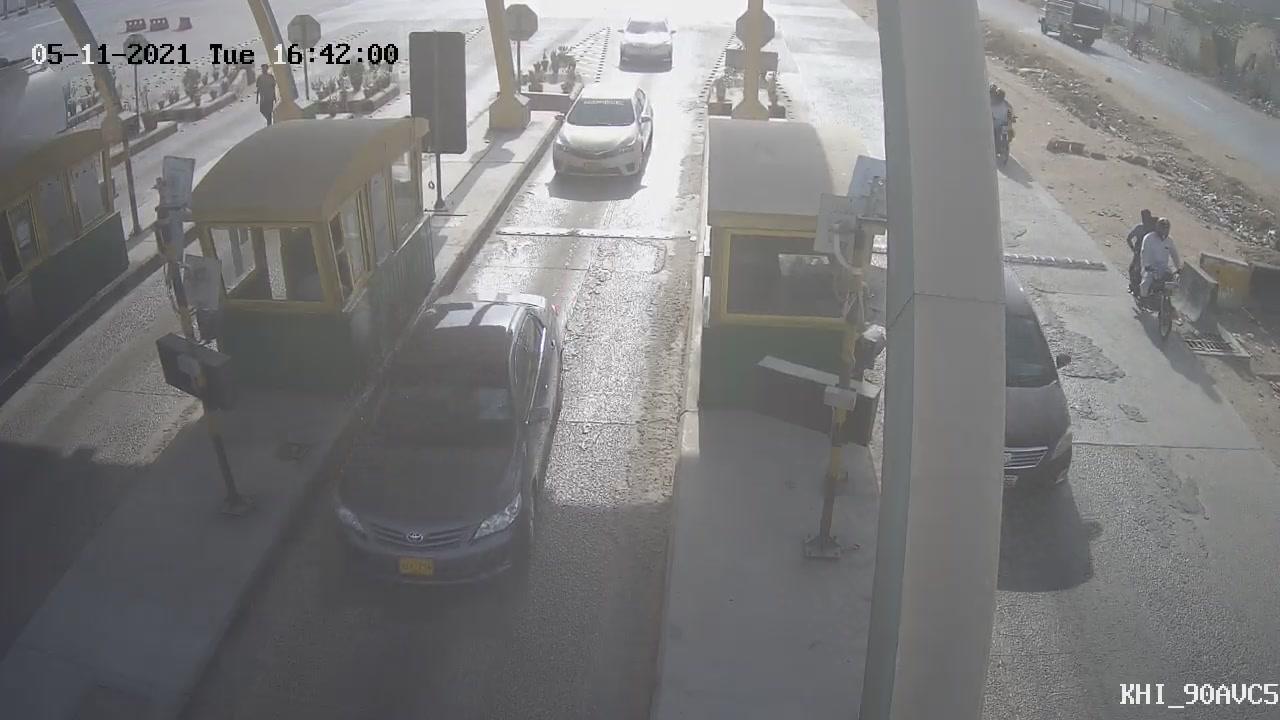F1: (308, 279, 583, 617), (537, 72, 668, 207)
